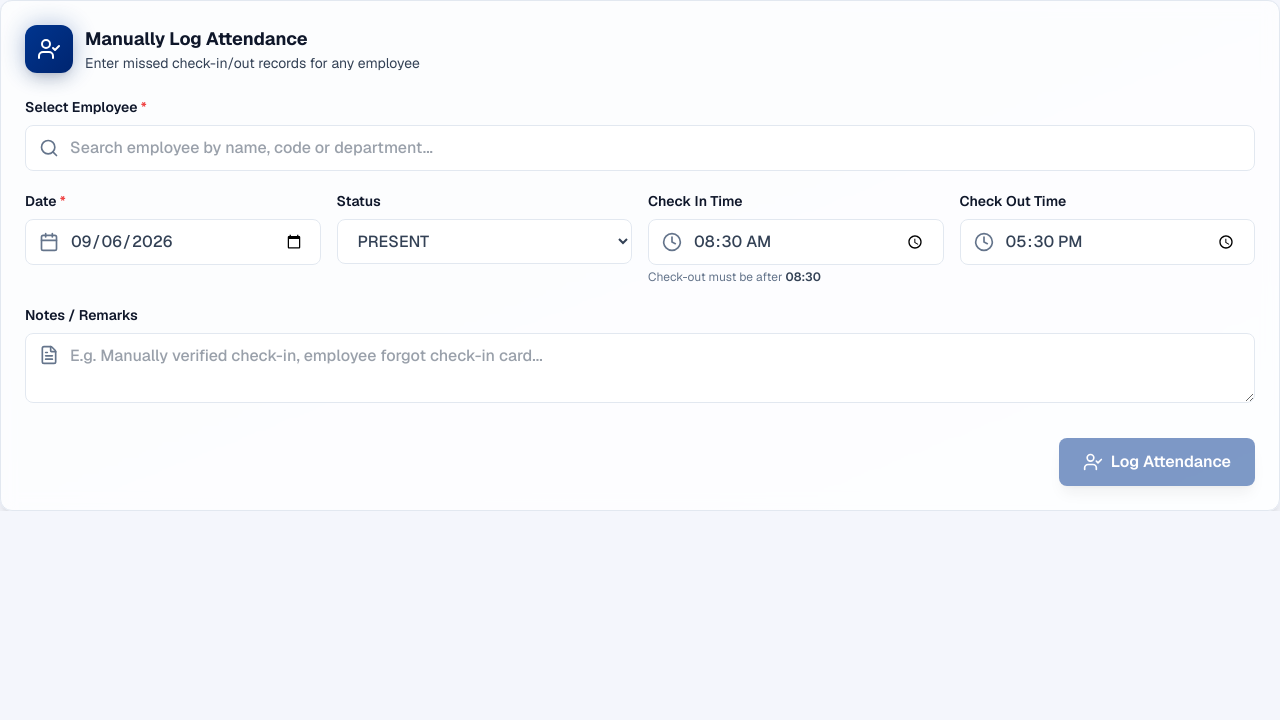
Scenario: ManualAttendanceEntry › refuses a check-out at or before the check-in
In the field with test id "manual-employee-search": (640, 148) [25, 125, 1255, 171], type "Ada"
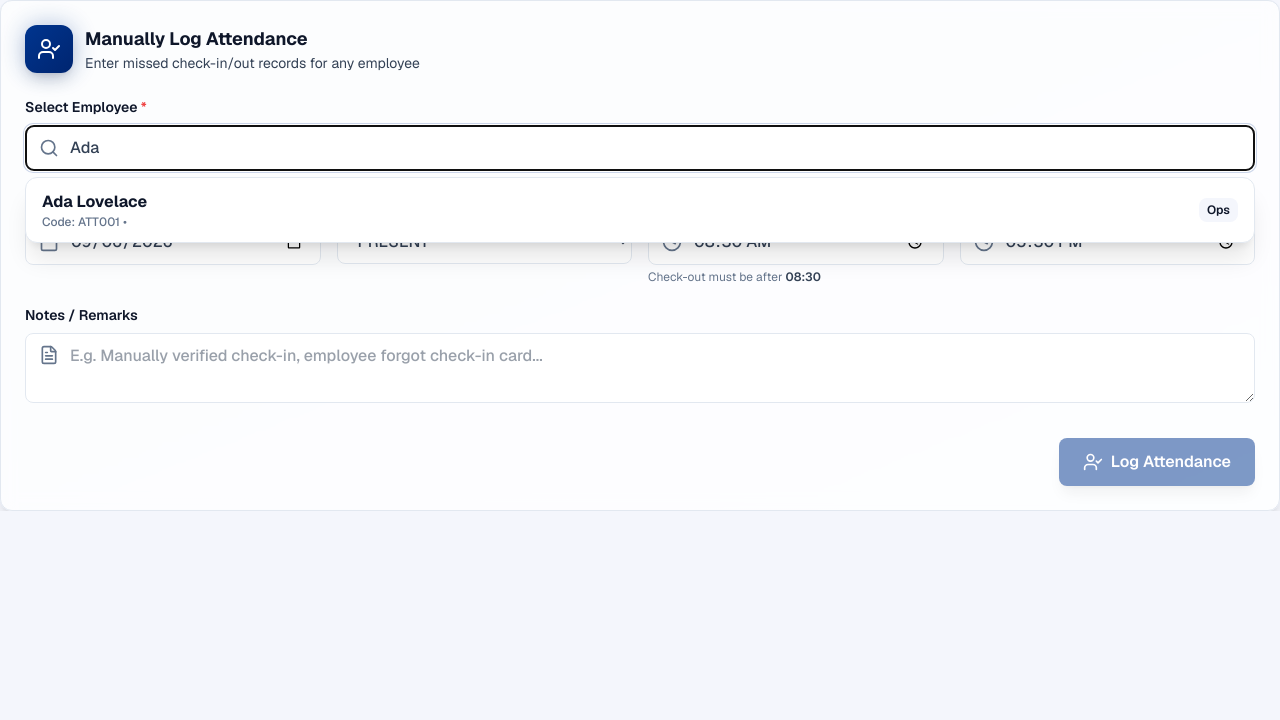
Click the button "Ada Lovelace Code: ATT001 • Ops": (95, 202) [26, 178, 1254, 242]
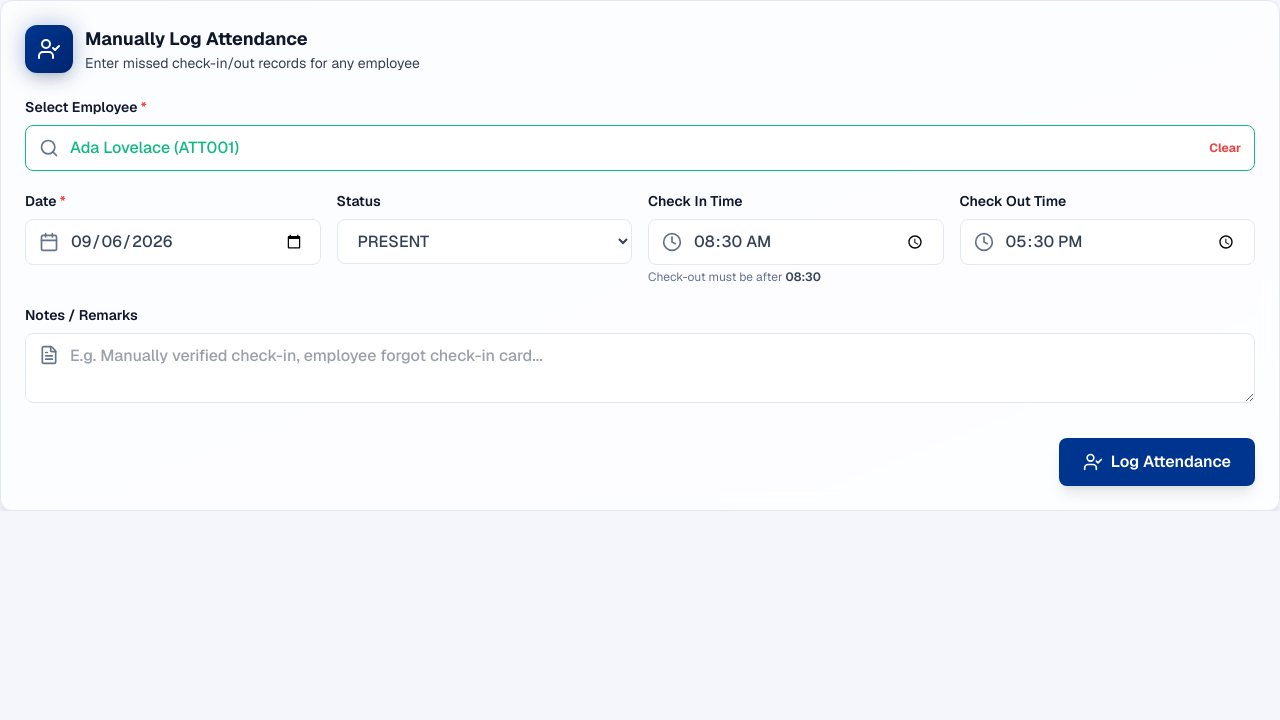
In the date field with test id "manual-date": (173, 242) [25, 219, 320, 265], type "2026-08-14"
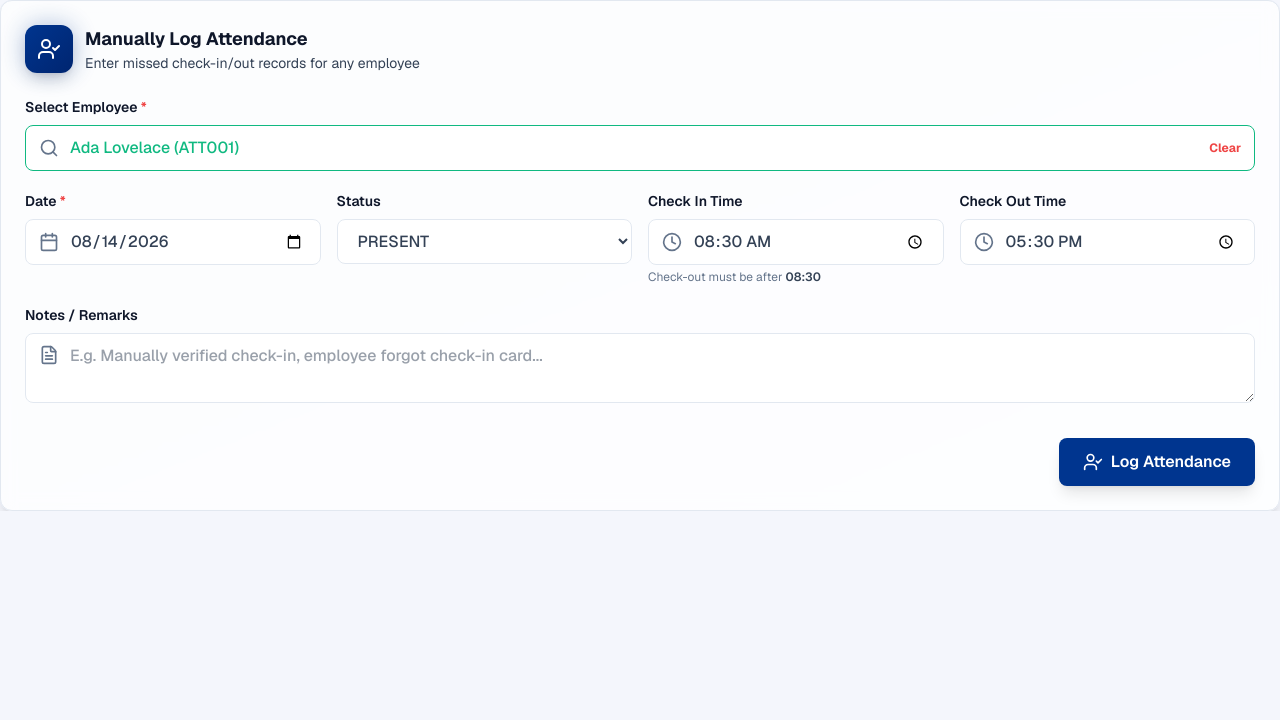
Replace the text in the time field with test id "manual-in" with "17:00": (796, 242) [648, 219, 944, 265]
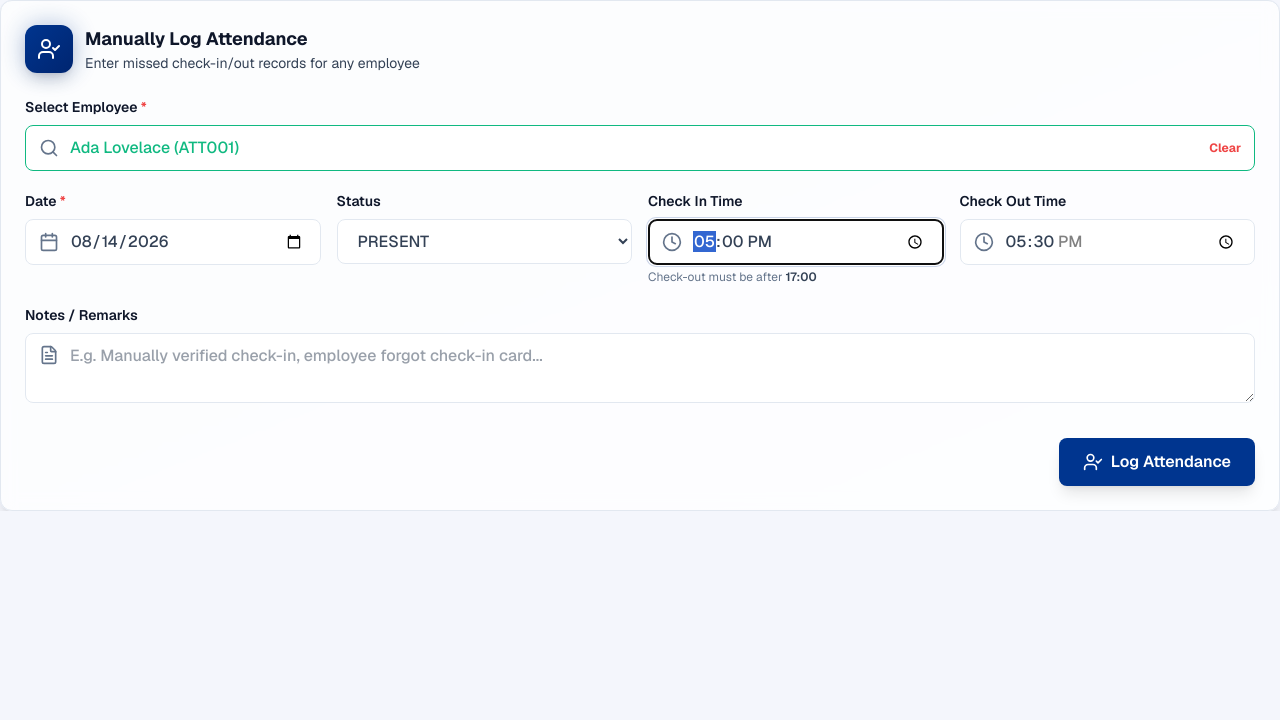
Replace the text in the time field with test id "manual-out" with "17:00": (1107, 242) [960, 219, 1255, 265]
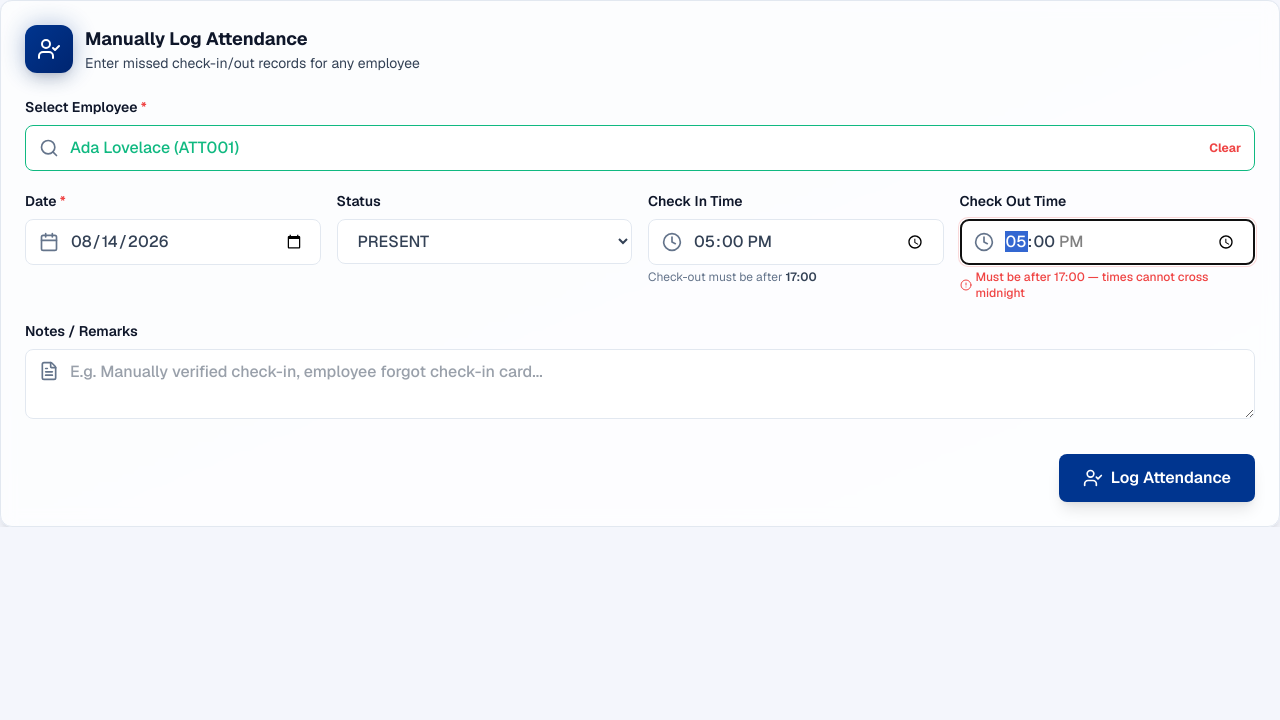
Click the button with test id "manual-submit": (1157, 478) [1059, 454, 1255, 502]
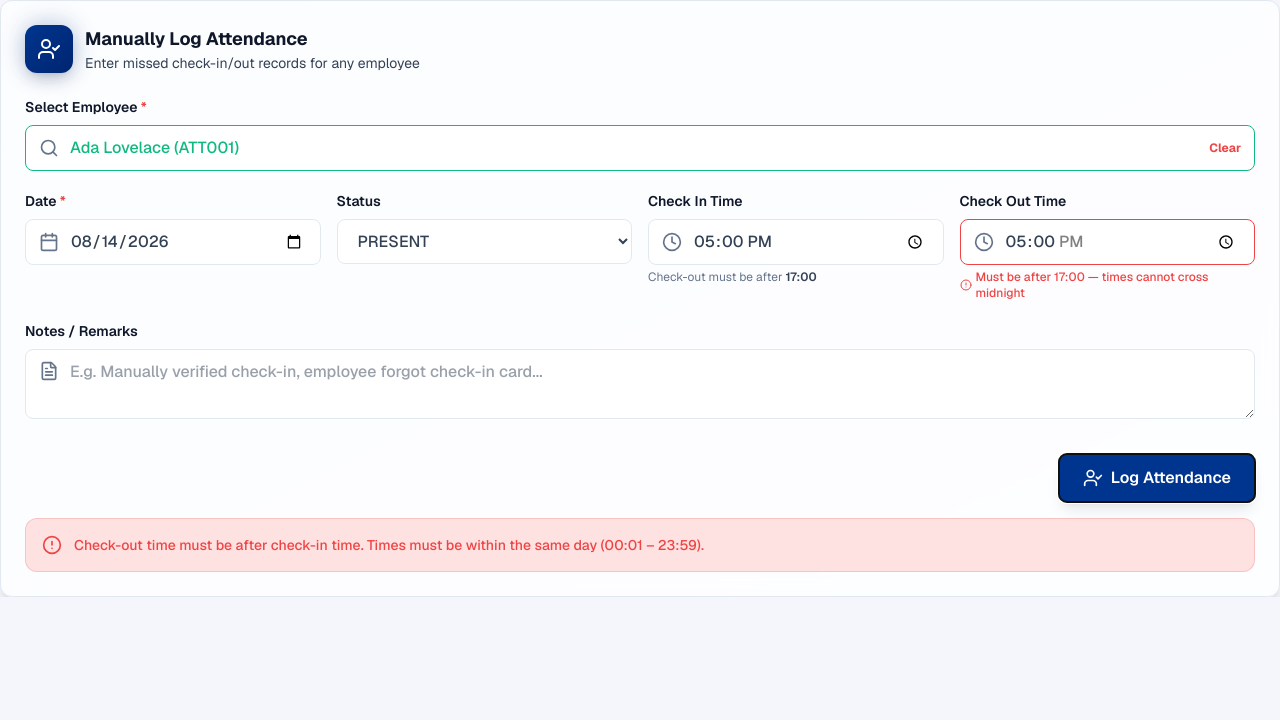
Expected: the text with test id "manual-error" is shown, [74, 535, 704, 555]
